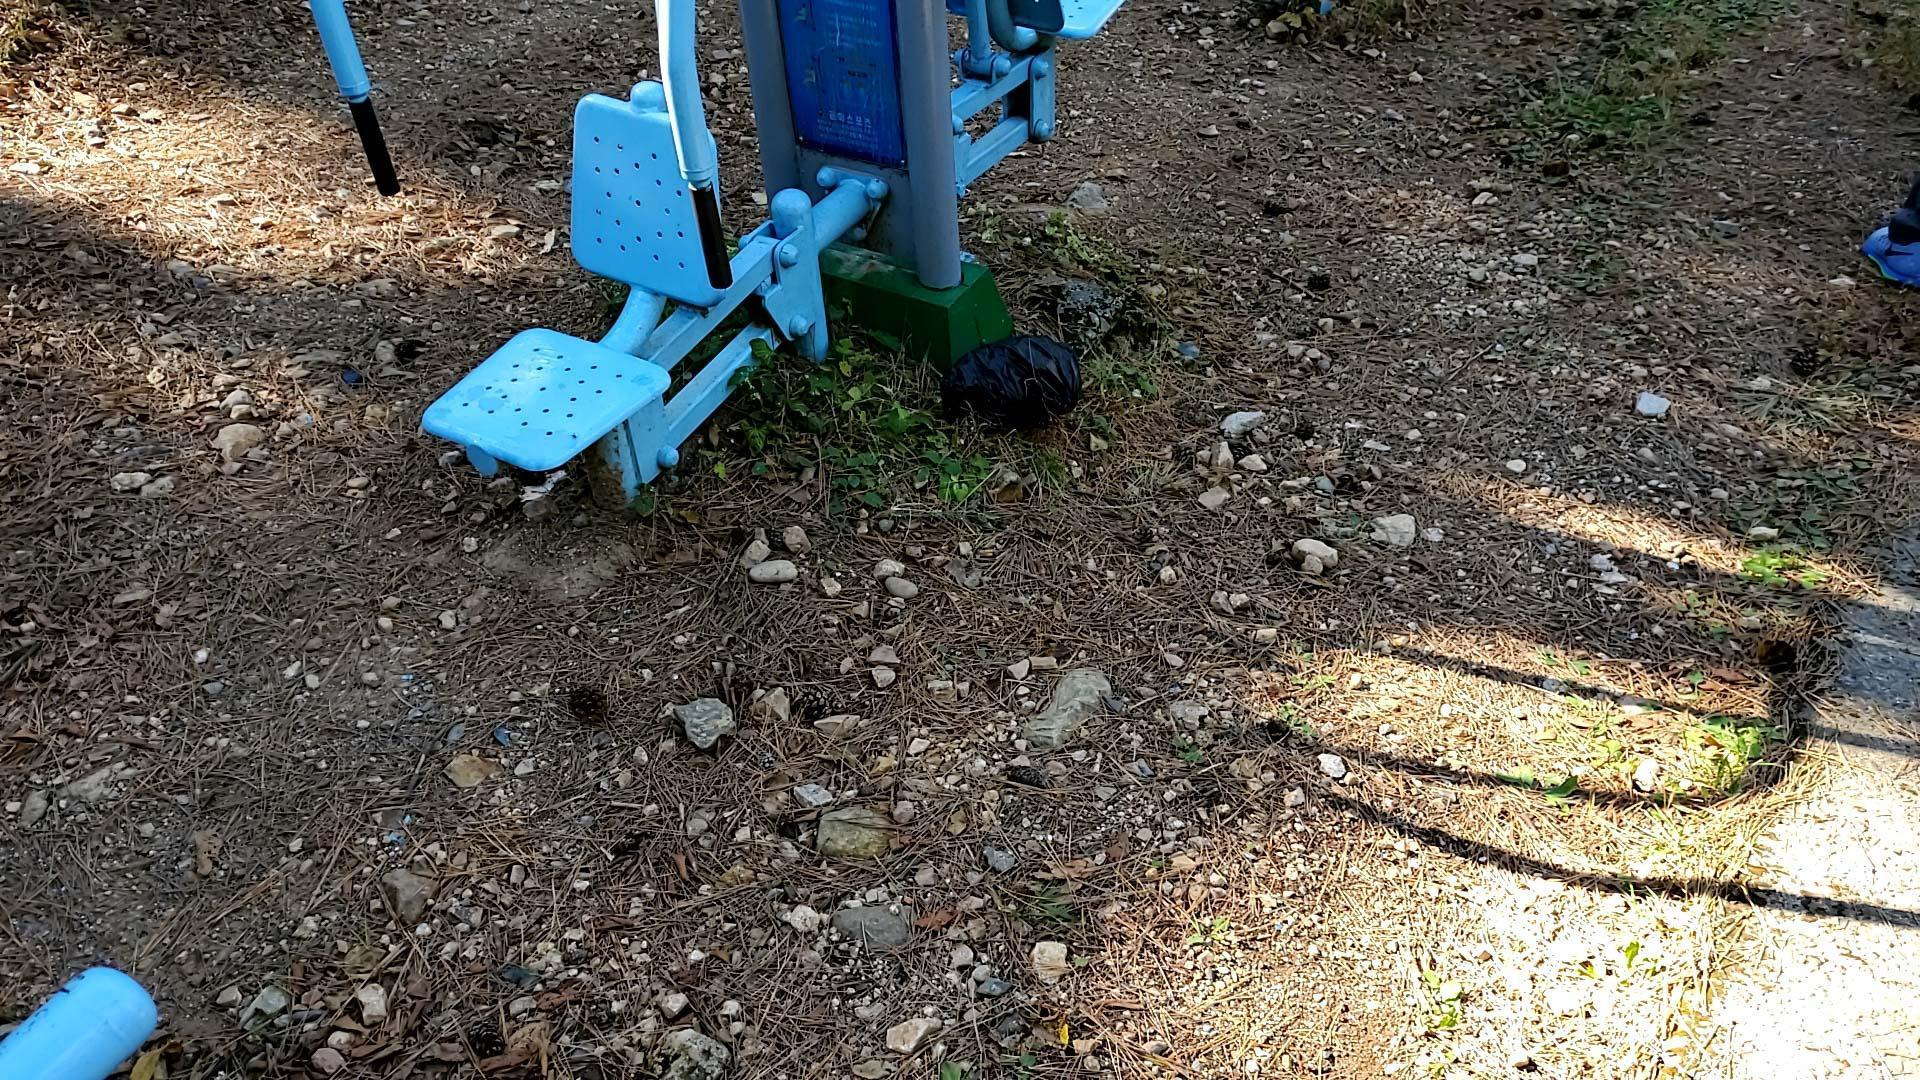black_bag: (924, 328, 1087, 442)
